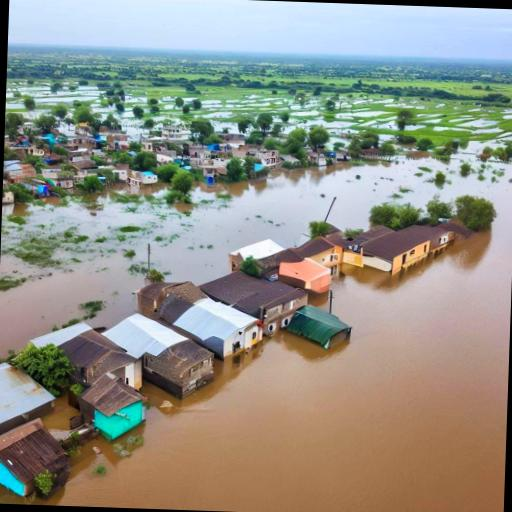flood: (0, 143, 512, 512), (5, 85, 148, 138), (284, 109, 398, 141), (434, 112, 512, 149), (200, 92, 323, 111), (196, 107, 239, 133), (144, 109, 182, 128), (55, 119, 74, 135), (406, 122, 426, 130), (182, 96, 196, 102), (161, 96, 173, 101)
house: (28, 320, 140, 404), (198, 267, 310, 340), (93, 308, 196, 382), (350, 214, 458, 281), (0, 355, 62, 462), (166, 296, 258, 364), (0, 422, 68, 500), (78, 372, 146, 446), (140, 340, 208, 403), (280, 301, 354, 356), (227, 234, 286, 276), (275, 254, 331, 294), (294, 234, 342, 268), (156, 126, 184, 143), (128, 170, 155, 187), (68, 134, 94, 150), (255, 149, 277, 166)
